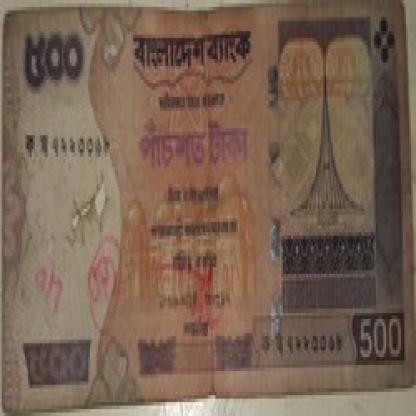500 taka: (132, 104, 260, 191), (346, 295, 414, 381), (13, 24, 95, 90)
currency: (0, 7, 415, 406)
